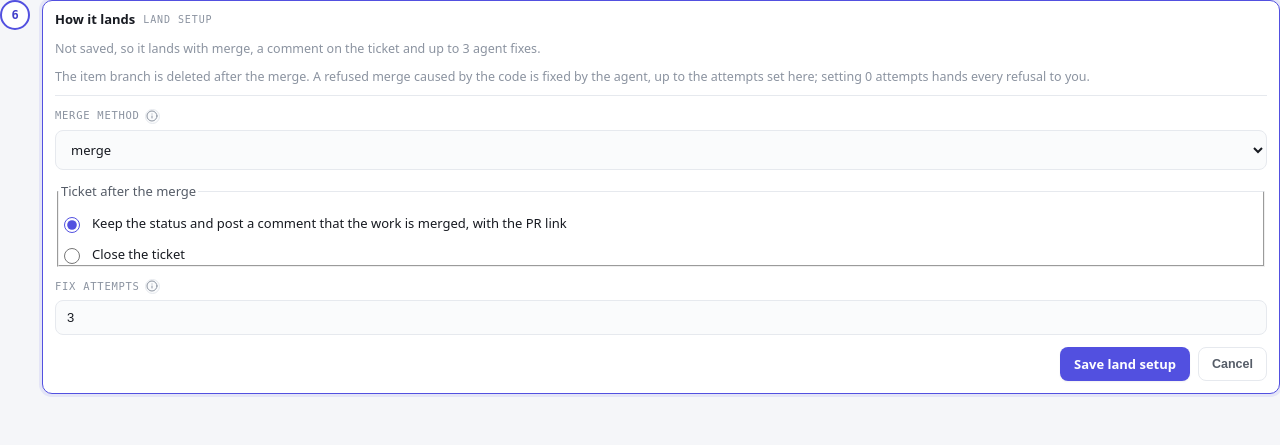
Test: land step (M4 land, spec §7.1) › will not save attempts outside 0 to 10
Replace the text in the number field named "Fix attempts" with "11": (661, 318) top-left (55, 300), bottom-right (1267, 335)
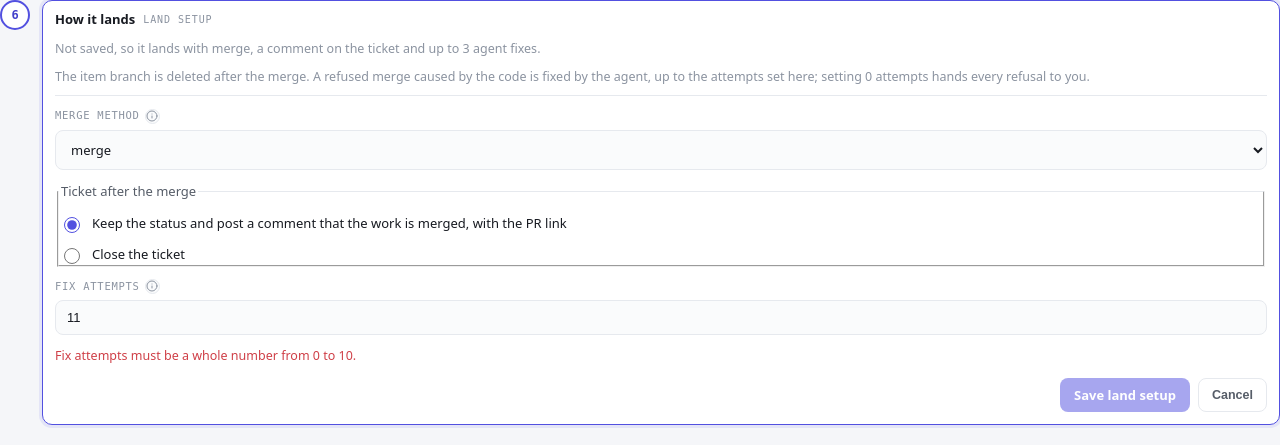
Check: the button "Save land setup" is disabled, box top-left (1060, 378), bottom-right (1190, 412)
Check: the text "Fix attempts must be a whole number from 0 to 10." is shown, box top-left (55, 347), bottom-right (356, 364)
